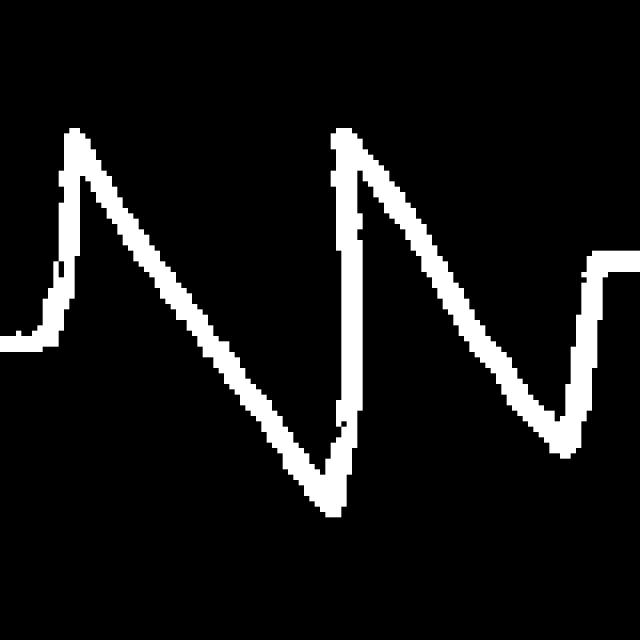resistor: (43, 88, 612, 529)
